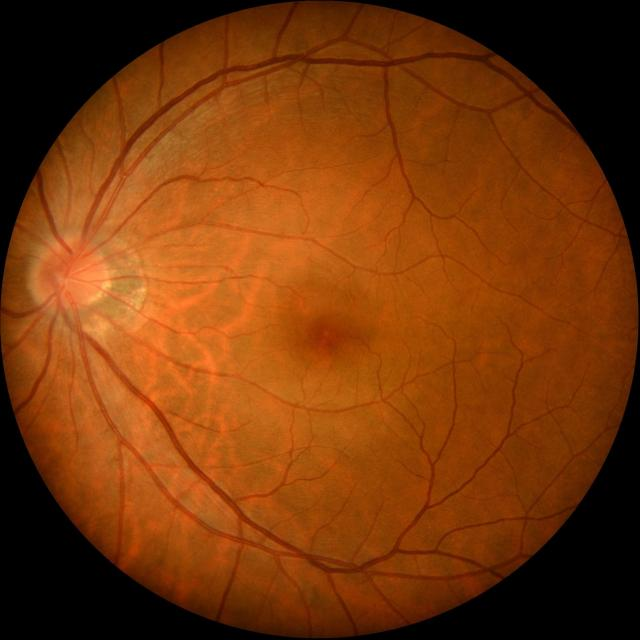OC: (62, 263, 84, 288)
OD: (35, 238, 107, 311)
